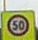limite 50: (7, 14, 29, 35)
